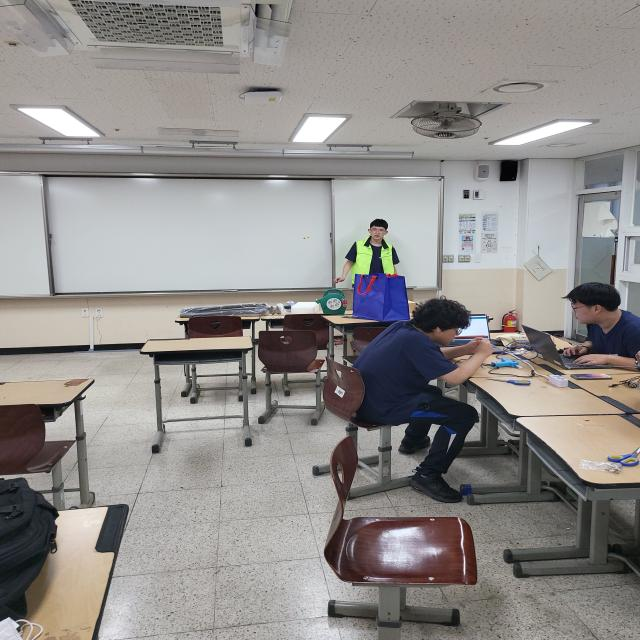weston_spy: (342, 232, 402, 284)
